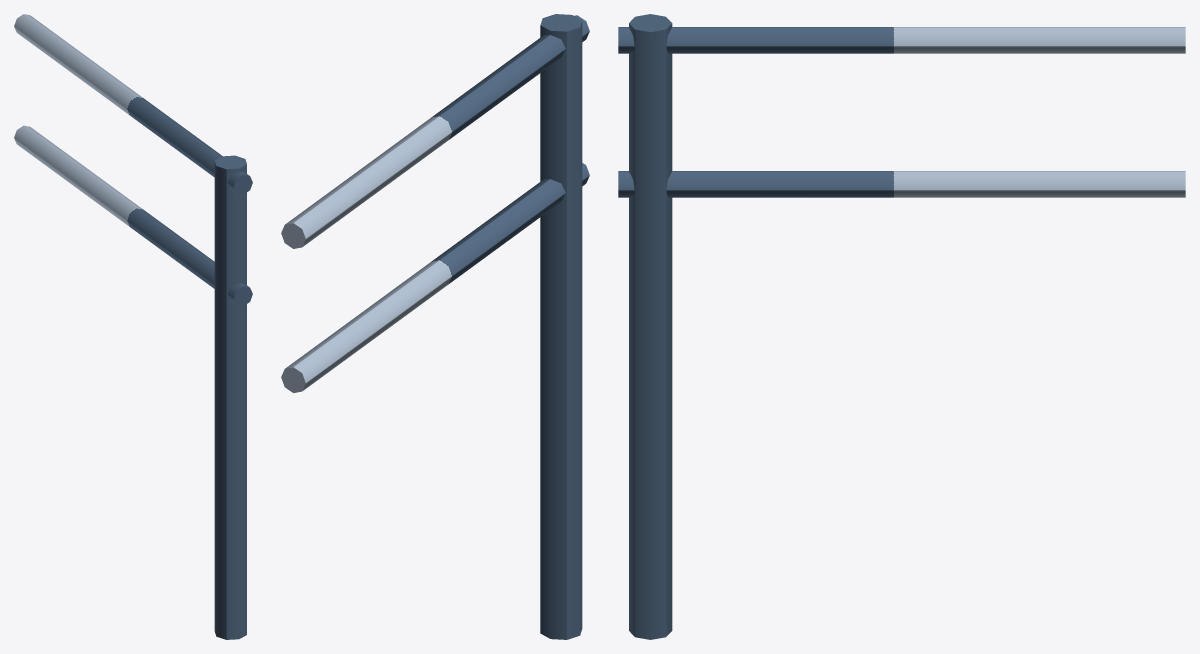
File: Cartel_Clyn.fbx
3 renders of one model, left to right at view 1: azimuth 30°, elevation 25°; view 2: azimuth 150°, elevation 25°; view 3: azimuth 270°, elevation 25°, orthographic. The views are drawn at different scales.
Visible parts, largest first — view 1: Cartel_Clyn; view 2: Cartel_Clyn; view 3: Cartel_Clyn.
Part boxes in pixels (left/top/right/bottom): Cartel_Clyn: left=14, top=14, right=252, bottom=639; Cartel_Clyn: left=281, top=14, right=589, bottom=639; Cartel_Clyn: left=618, top=14, right=1185, bottom=639.
Bounding box in the file's own units: 200 × 3097 × 2621.
